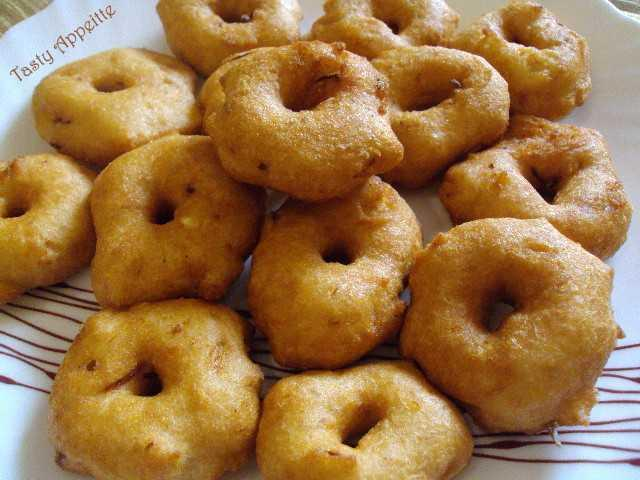mvada: (103, 70, 472, 454)
